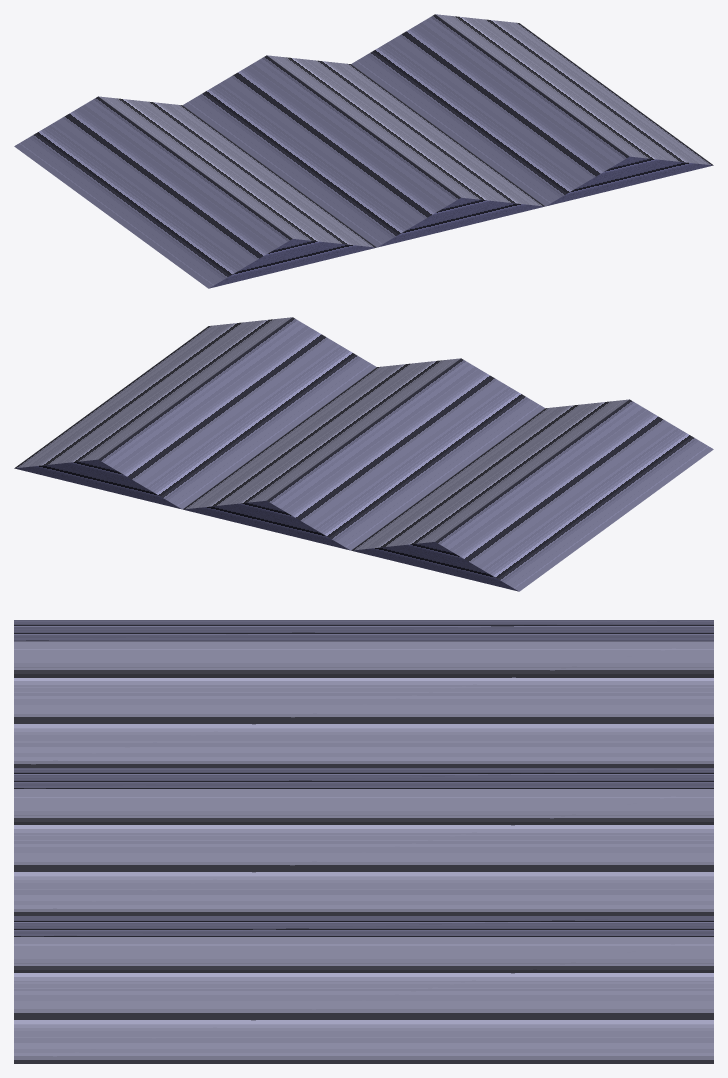
Rendered from km2_ukishima.glb.
The picture shows the model from 3 angles, top to bottom: view 1: azimuth 30°, elevation 25°; view 2: azimuth 150°, elevation 25°; view 3: azimuth 270°, elevation 25°; orthographic projection. The views are drawn at different scales.
Parts seen in each view (by area): view 1: km2_ukishima; view 2: km2_ukishima; view 3: km2_ukishima.
Part boxes in pixels (<box>): km2_ukishima: <box>14,14,713,288</box>; km2_ukishima: <box>14,317,713,591</box>; km2_ukishima: <box>14,620,713,1063</box>.
Size of the model in its own units: 14.06 by 0.7812 by 9.38.
1 material, 1 textured.
